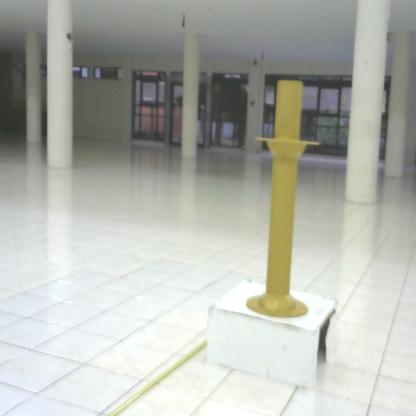pole: (245, 75, 322, 326)
